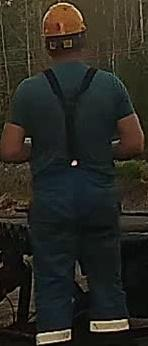helmet: (40, 1, 87, 43)
